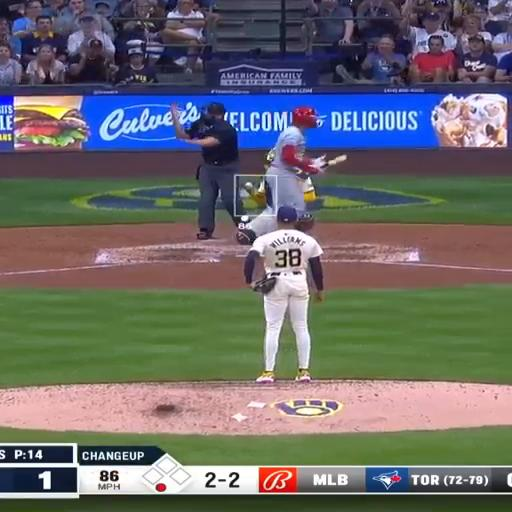bat: (327, 154, 348, 166)
